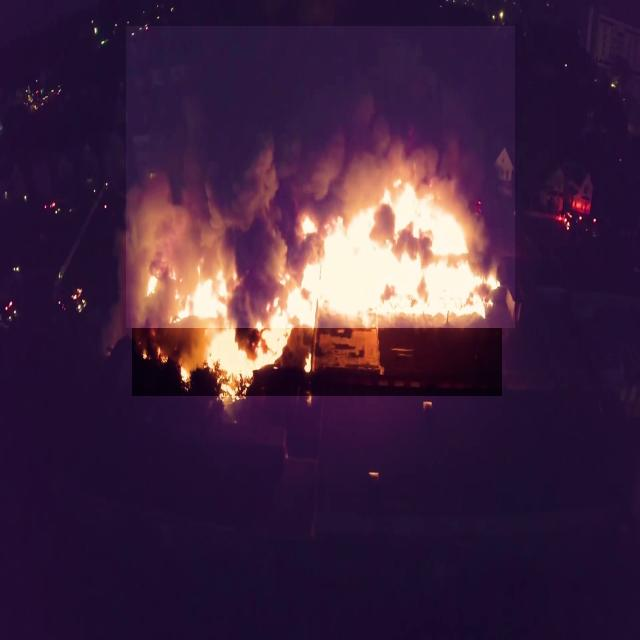Fire: (126, 26, 515, 328), (132, 177, 502, 396)
